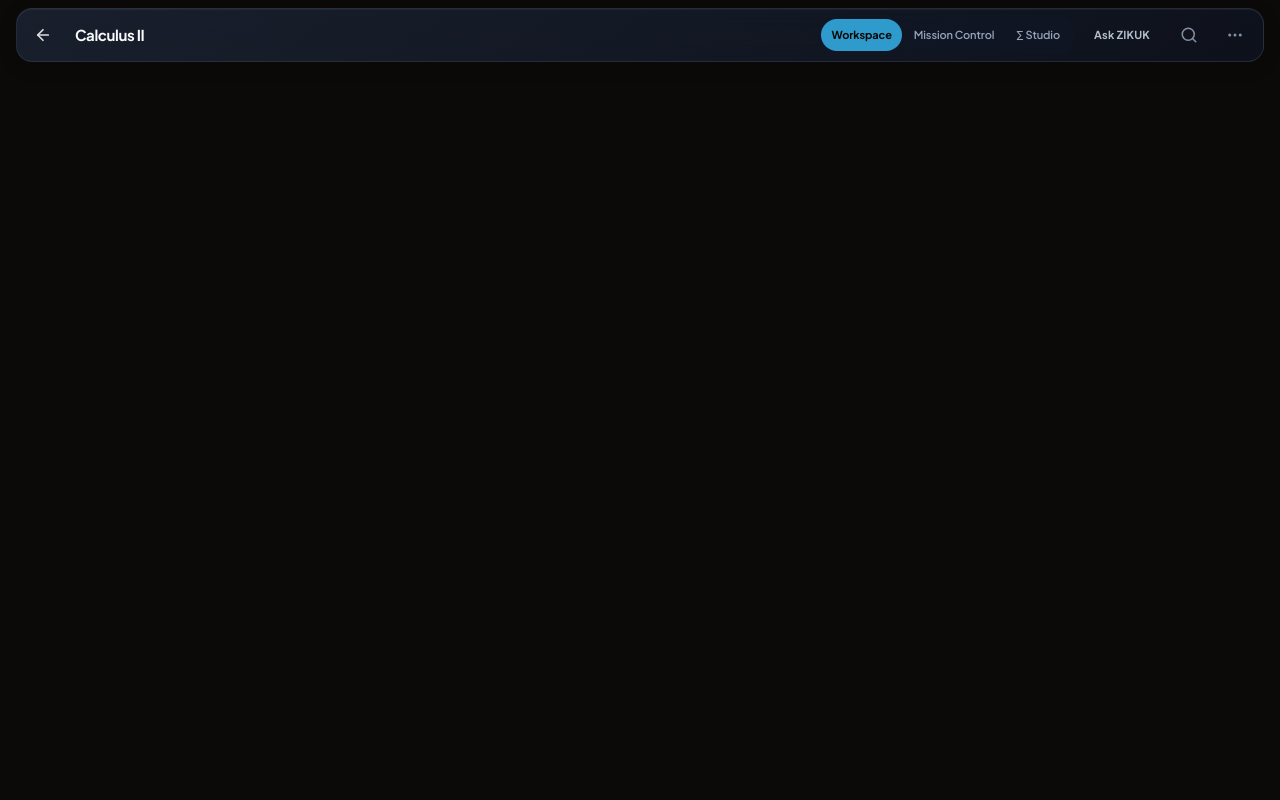
Scenario: FloatingWorkspaceShell Ask trigger › opens Ask workspace with course title from askZikuk props
Click the button "Ask ZIKUK" at coordinates (1122, 35), box [1083,15,1161,55]
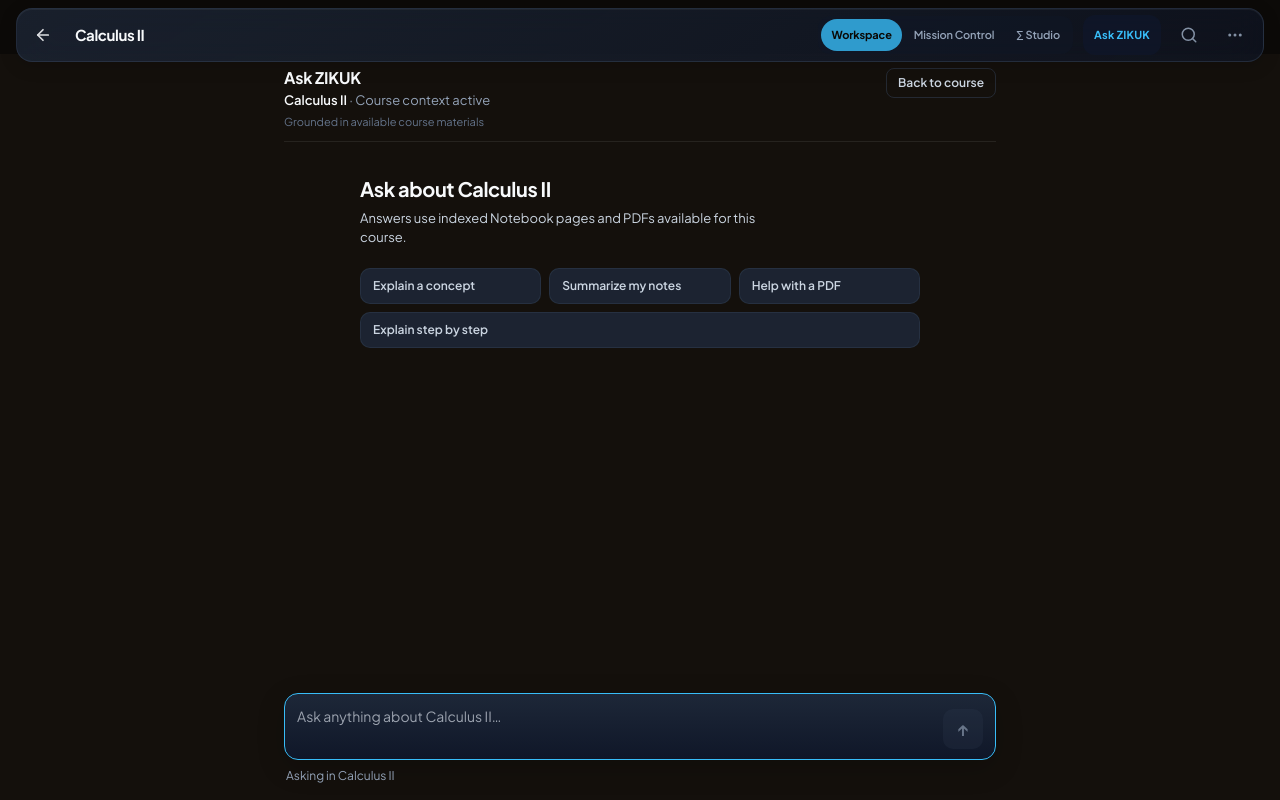
Result: the element showing "Calculus II · Course context active" is shown at [284,92,490,110]
